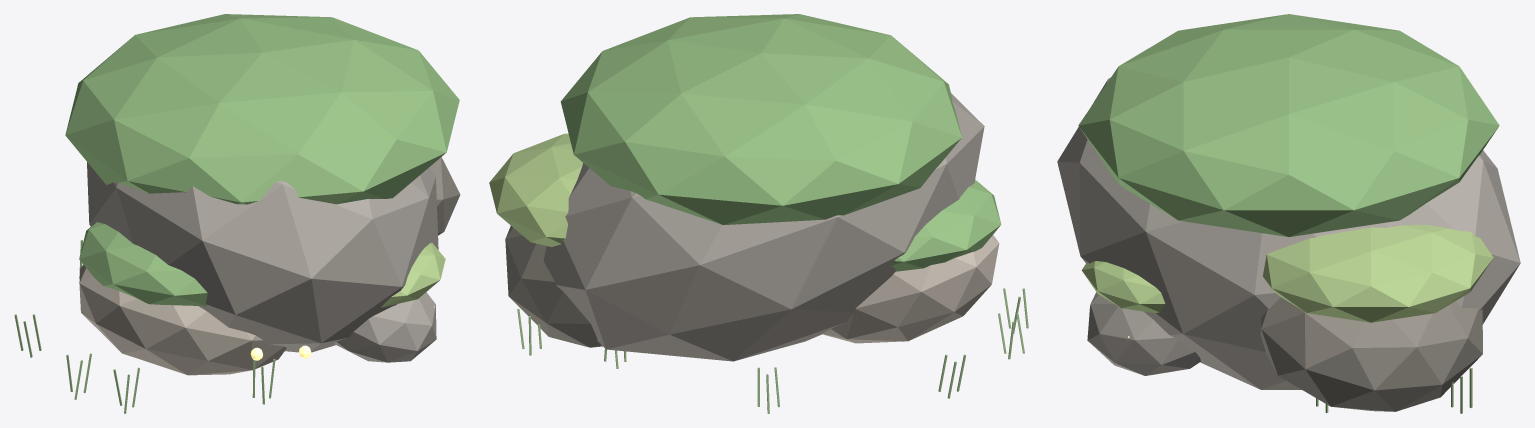
Rendered from mossy_boulder.glb.
3 views of the same model, side by side, from view 1: azimuth 30°, elevation 25°; view 2: azimuth 150°, elevation 25°; view 3: azimuth 270°, elevation 25° (orthographic). The views are drawn at different scales.
Parts seen in each view (by area): view 1: mossy_boulder; view 2: mossy_boulder; view 3: mossy_boulder.
Boxes of the visible parts, x1,y1,x2,y2 form: mossy_boulder: (14, 14, 460, 413); mossy_boulder: (489, 14, 1028, 413); mossy_boulder: (1057, 14, 1520, 413).
Size of the model in its own units: 1.91 by 1.2 by 1.69.
